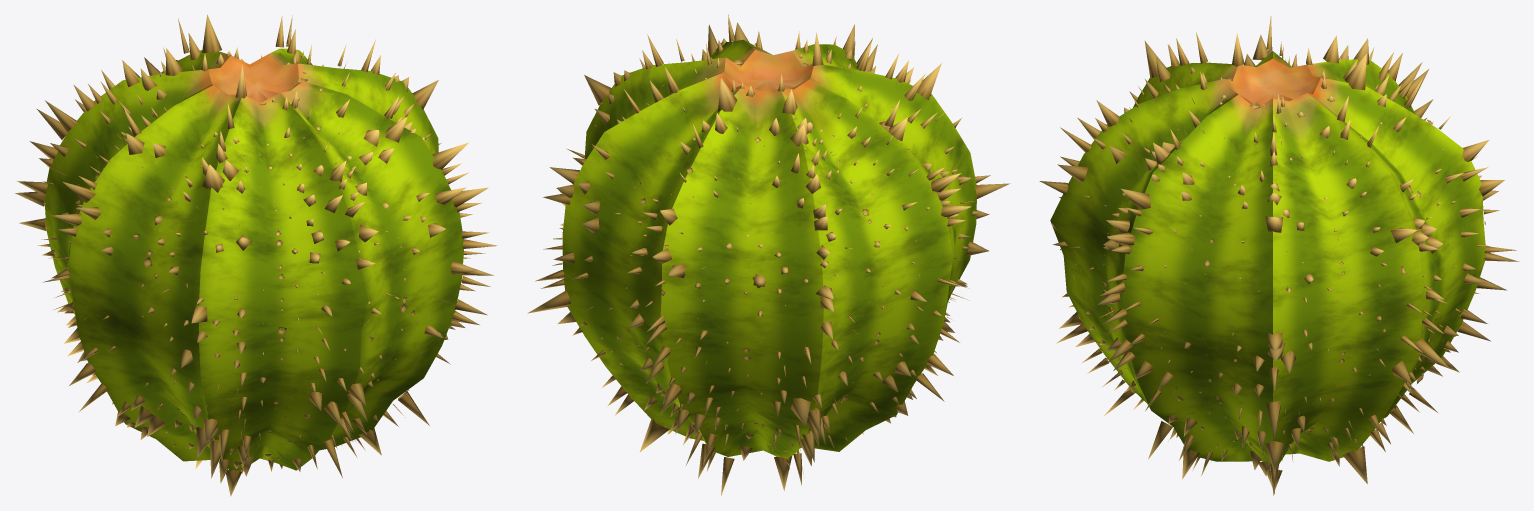
File: Small Cactus.fbx
3 views of the same model, side by side, from view 1: azimuth 30°, elevation 25°; view 2: azimuth 150°, elevation 25°; view 3: azimuth 270°, elevation 25° (orthographic).
Visible parts, largest first — view 1: Sphere; view 2: Sphere; view 3: Sphere.
Part boxes in pixels (box(x1,y1,x2,y2)): Sphere: box(15, 14, 497, 496); Sphere: box(527, 14, 1010, 495); Sphere: box(1039, 16, 1519, 495).
Size of the model in its own units: 2.58 by 2.64 by 2.58.
Materials: 2 (2 with a texture image).
